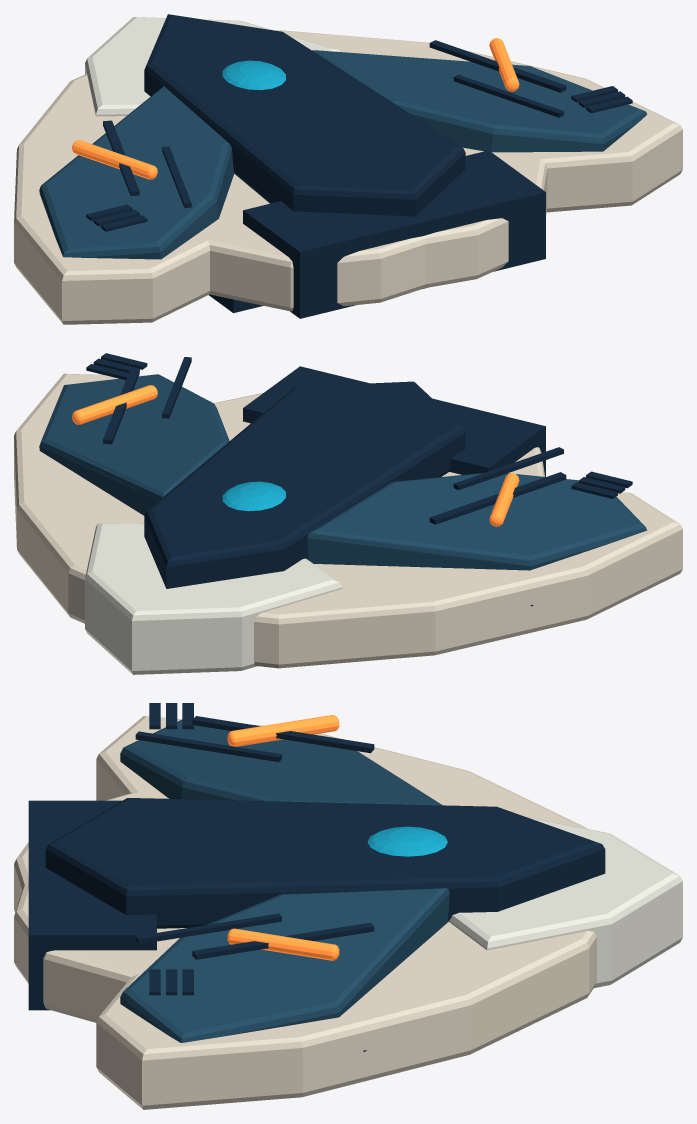
Rendered from bulwark-low.glb.
3 renders of one model, top to bottom at view 1: azimuth 30°, elevation 25°; view 2: azimuth 150°, elevation 25°; view 3: azimuth 270°, elevation 25°, orthographic. The views are drawn at different scales.
Parts seen in each view (by area): view 1: dark_static, hull_static, accent_static, porcelain_static, trim_static, glass_static; view 2: dark_static, hull_static, accent_static, porcelain_static, trim_static, glass_static; view 3: dark_static, hull_static, accent_static, porcelain_static, trim_static, glass_static.
Part boxes in pixels (x1,y1,x2,y2): dark_static: (86,14,632,318); hull_static: (14,30,682,324); accent_static: (39,50,647,259); porcelain_static: (85,17,340,116); trim_static: (72,38,519,179); glass_static: (222,60,285,90); dark_static: (86,353,632,606); hull_static: (14,373,682,668); accent_static: (39,374,647,570); porcelain_static: (85,523,342,674); trim_static: (72,385,519,526); glass_static: (222,481,285,511); dark_static: (28,703,605,1051); hull_static: (14,716,596,1109); accent_static: (120,719,449,1042); porcelain_static: (449,817,682,987); trim_static: (227,715,339,960); glass_static: (367,826,447,856).
Bounding box in the file's own units: 389 × 70 × 323.
